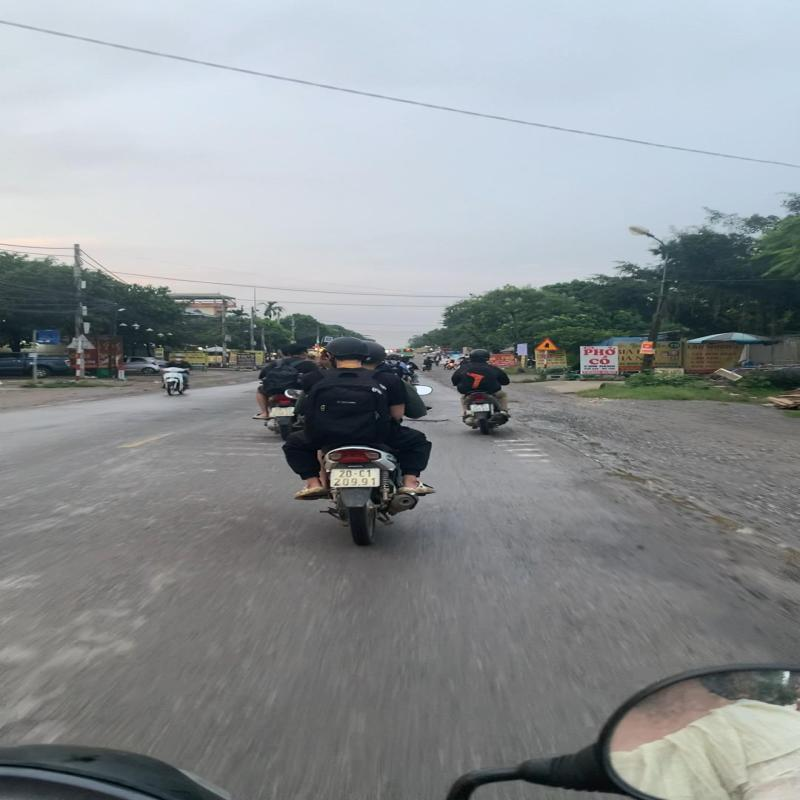helmet: (320, 334, 373, 364), (353, 340, 390, 366)
licenseplate: (327, 466, 384, 490)
motorcyclist: (276, 334, 442, 547)
nohelmet: (282, 342, 312, 358)
